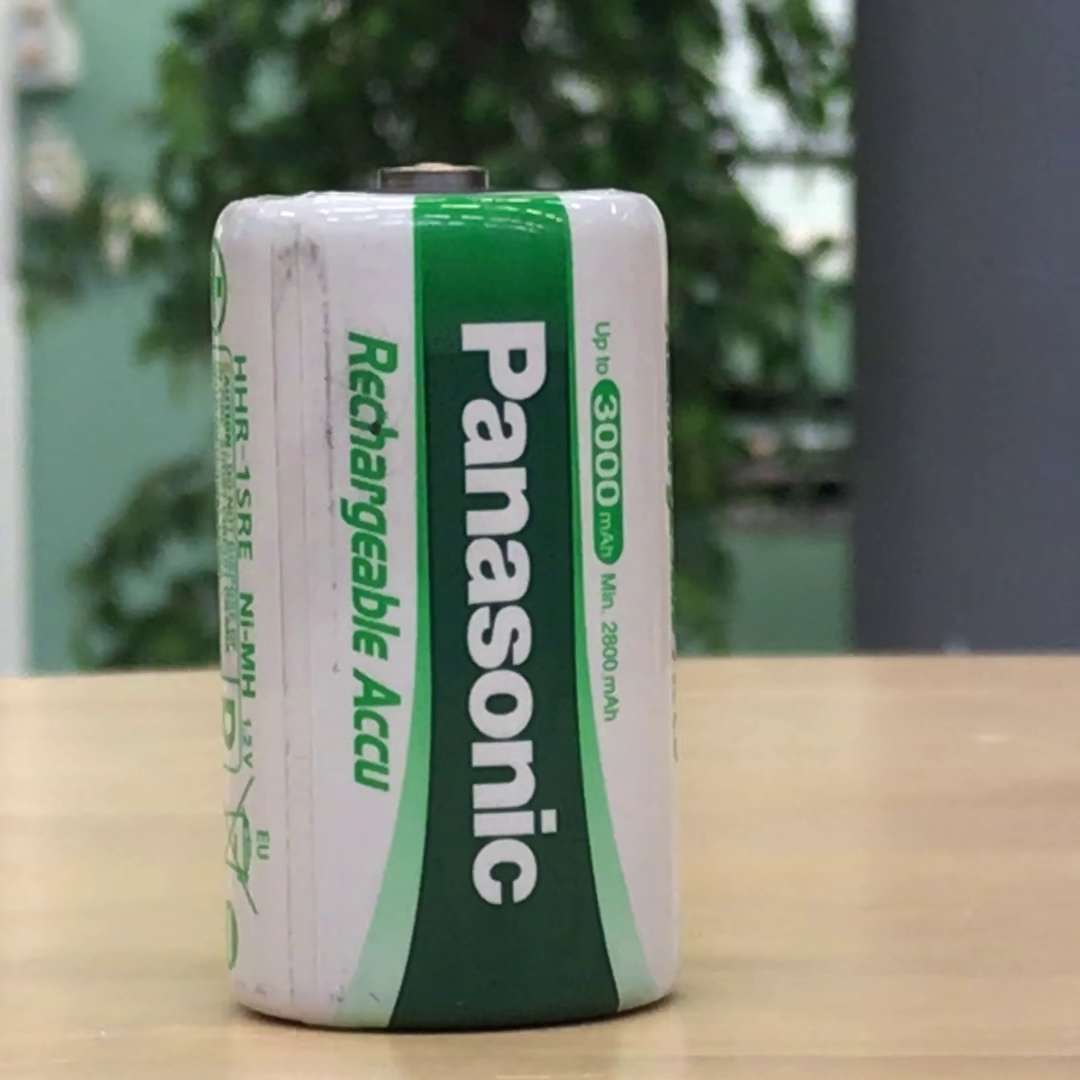keyword: (231, 584, 265, 707)
